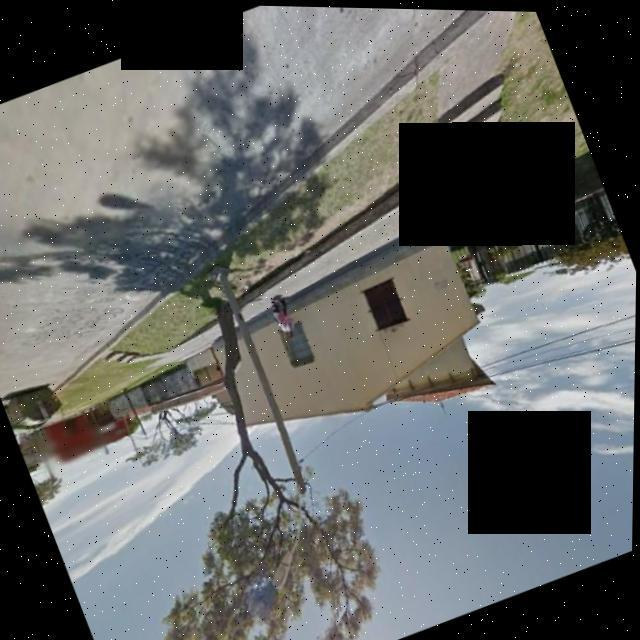bin: (0, 371, 76, 448)
